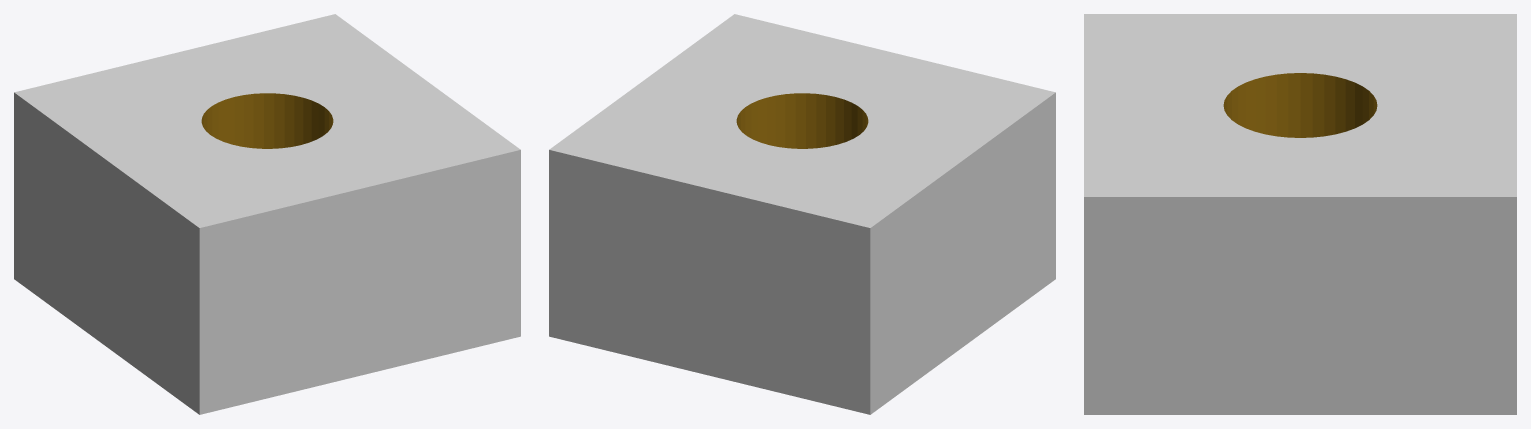
Rendered from YellowButton.fbx.
3 views of the same model, side by side, from view 1: azimuth 30°, elevation 25°; view 2: azimuth 150°, elevation 25°; view 3: azimuth 270°, elevation 25° (orthographic). The views are drawn at different scales.
Parts seen in each view (by area): view 1: Куб; view 2: Куб; view 3: Куб.
Part boxes in pixels (left/top/right/bottom): Куб: left=14, top=14, right=520, bottom=414; Куб: left=549, top=14, right=1055, bottom=414; Куб: left=1084, top=14, right=1516, bottom=414.
Size of the model in its own units: 90 by 50 by 90.
